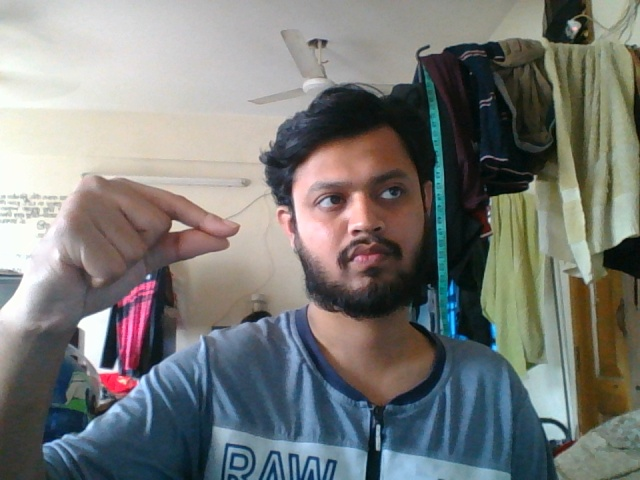onushhar: (1, 166, 250, 334)
